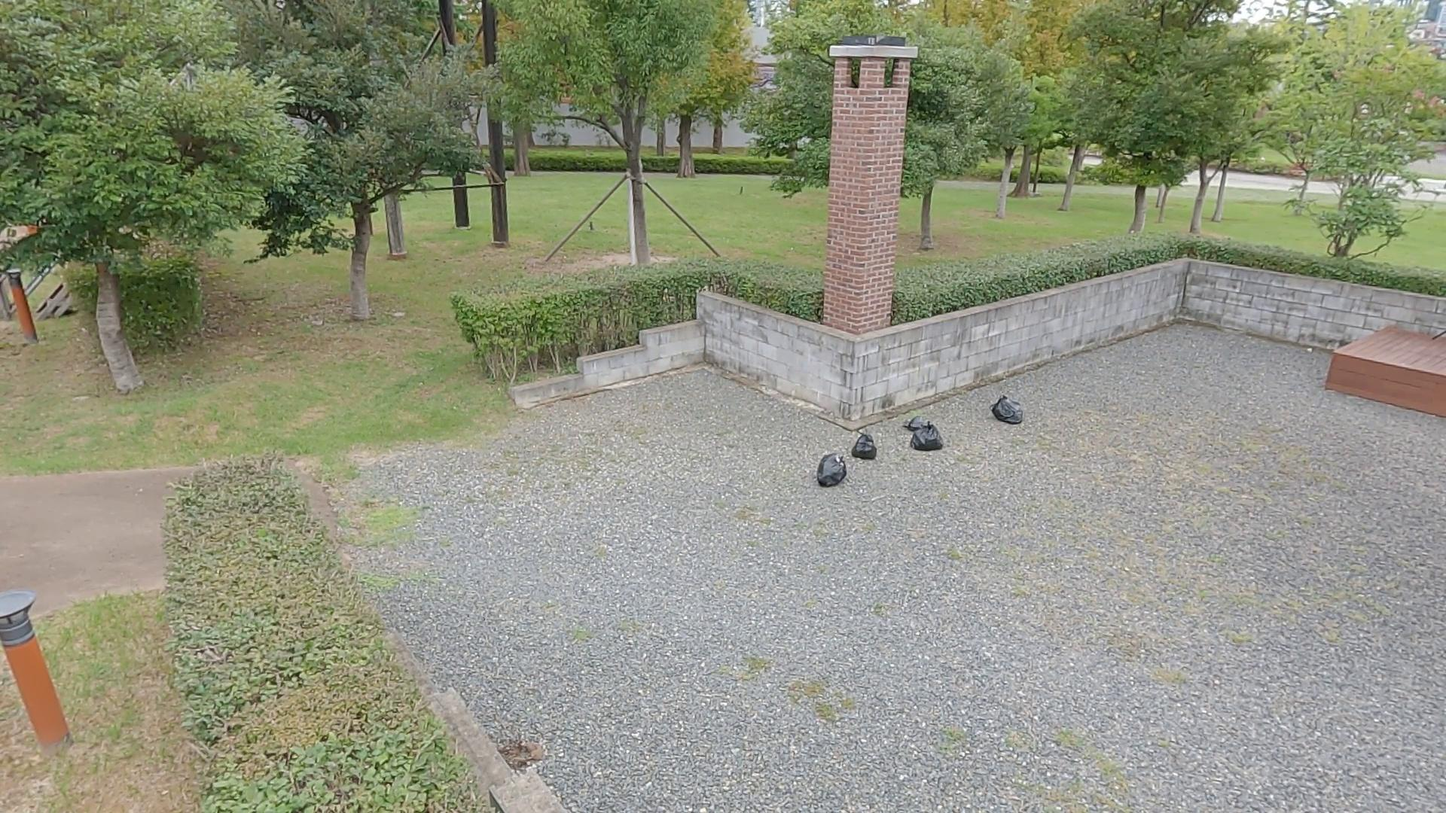trash: (987, 391, 1026, 429), (814, 450, 849, 489), (908, 421, 946, 453), (849, 429, 879, 463), (902, 412, 931, 435)
